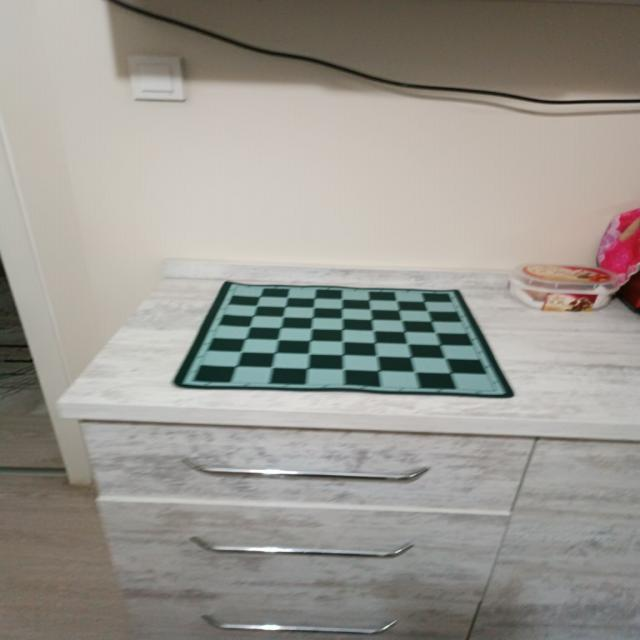chess-table-corners: (226, 276, 252, 298), (180, 370, 208, 390), (483, 380, 511, 400), (435, 284, 463, 304)
